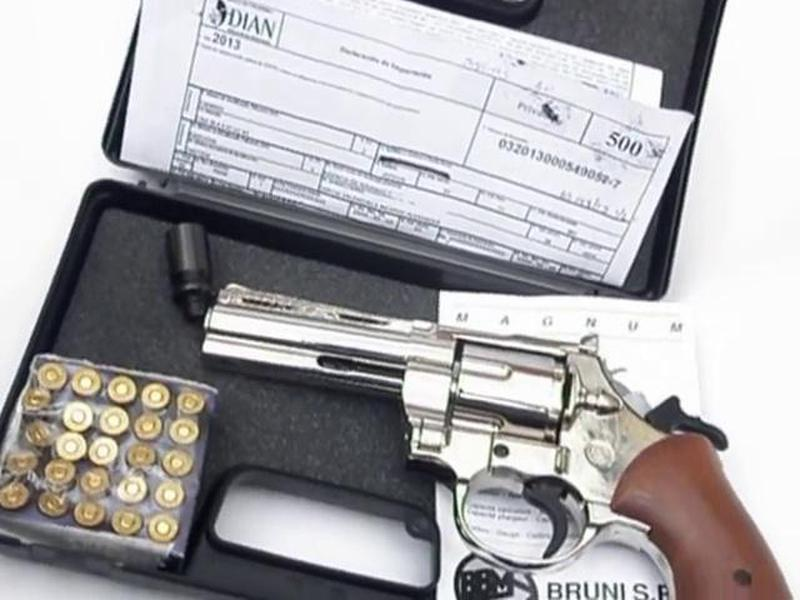Revolver: (200, 273, 797, 600)
